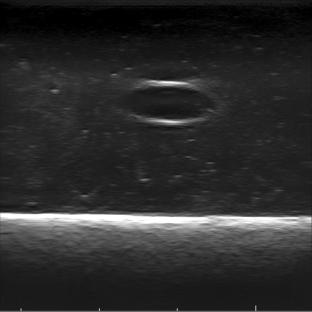vessel: (118, 80, 219, 126)
